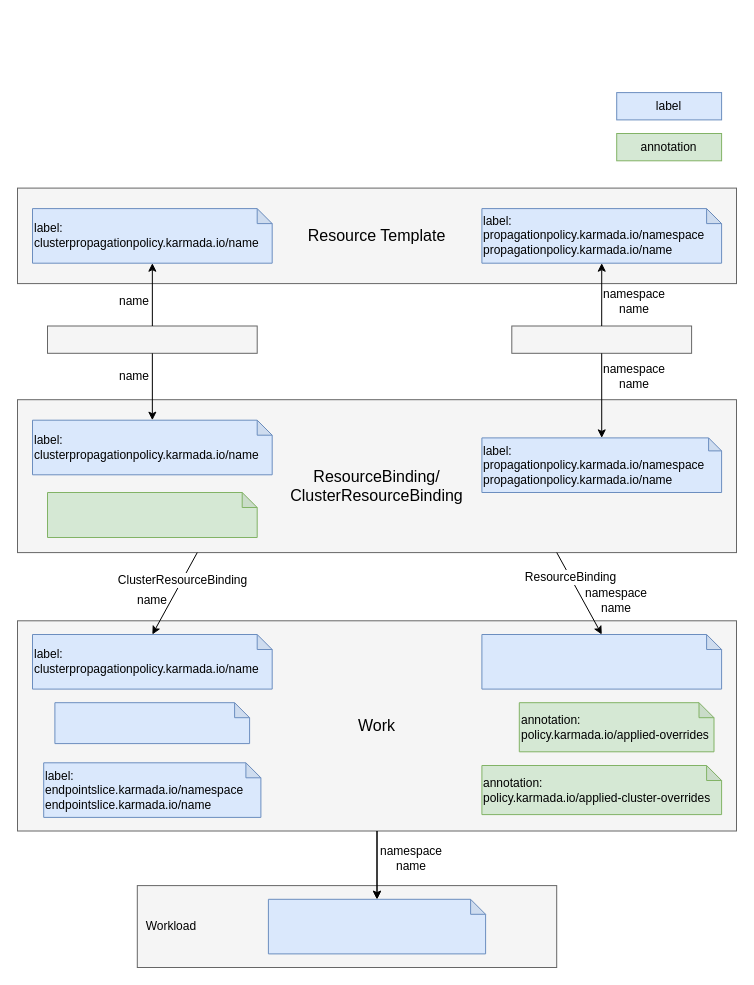
The diagram is 754 pixels wide and 985 high, and some of its shapes have lost their labels. Each missing label, with the centre of its shape:
annotation: policy.karmada.io/applied-placement: pixel 151 515
ClusterPropagationPolicy: pixel 151 339
label: propagation.karmada.io/instruction: pixel 152 723
label: resourcebinding.karmada.io/namespace resourcebinding.karmada.io/name: pixel 601 661
label: work.karmada.io/namespace work.karmada.io/name: pixel 376 926
PropagationPolicy: pixel 601 339
